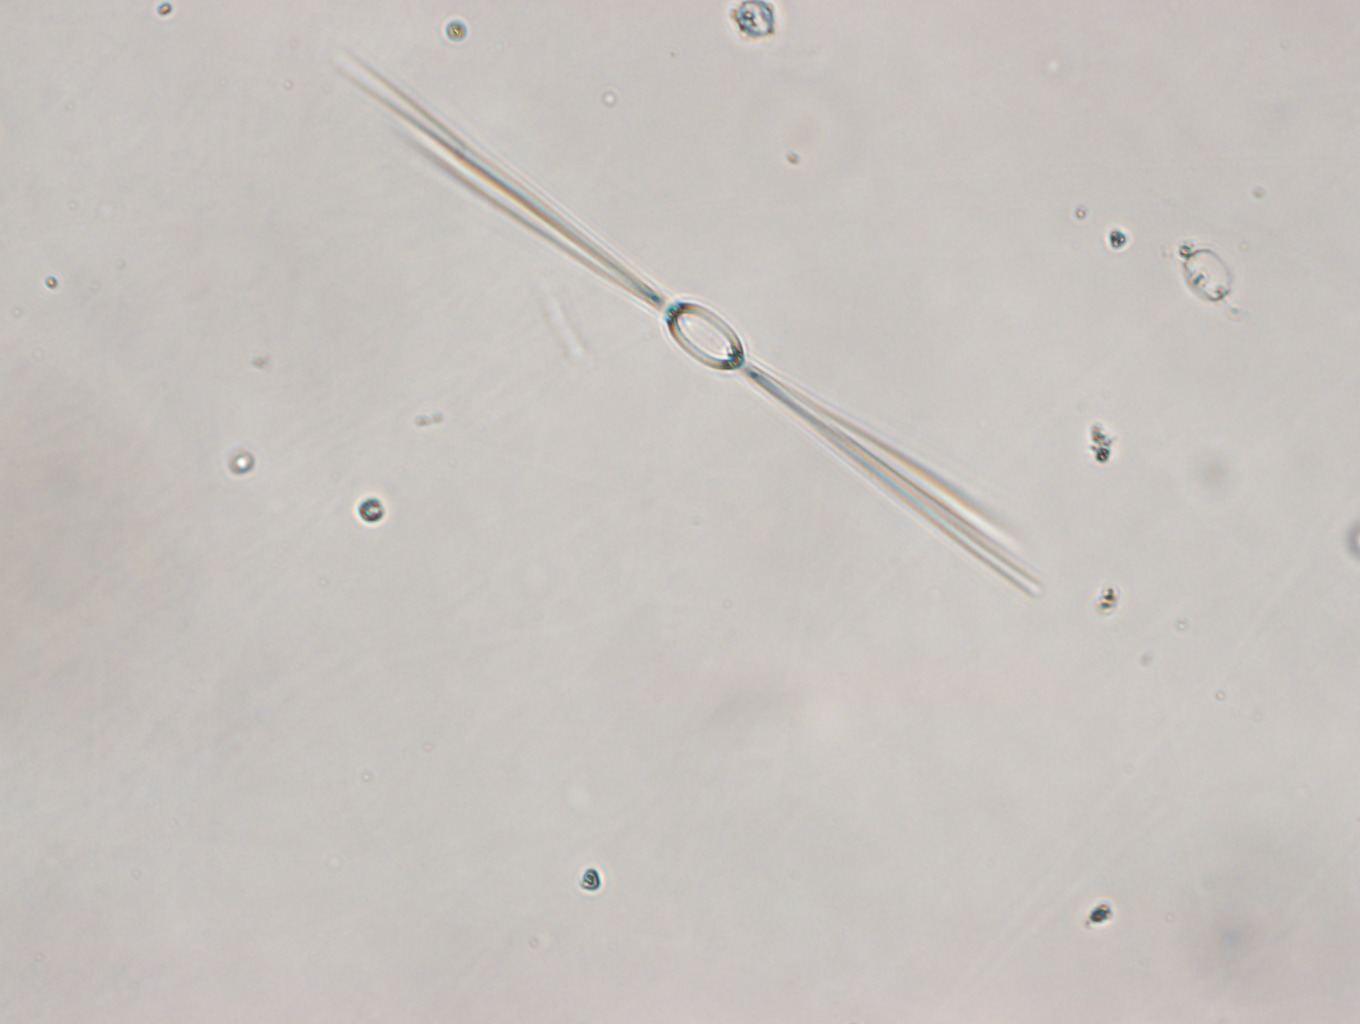chaetoceros: (341, 61, 1063, 609)
